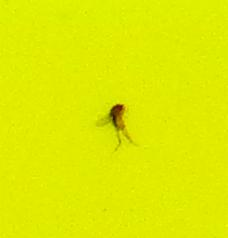Brachycera: (100, 100, 128, 138)
